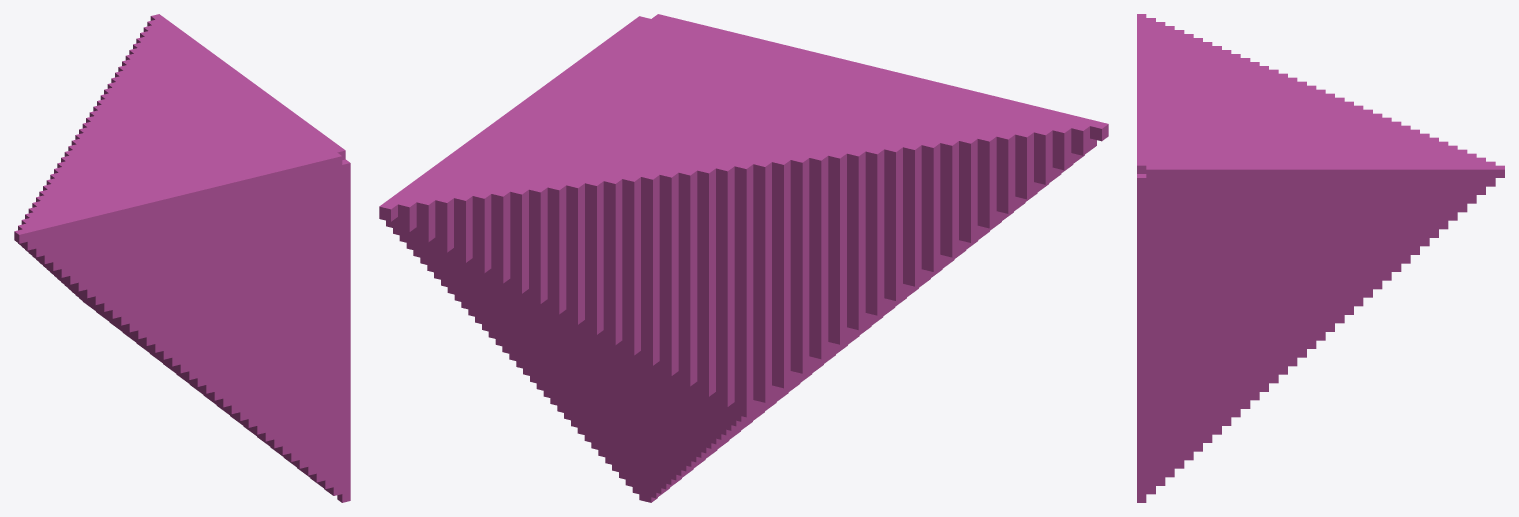
File: crystal-5.obj
3 renders of one model, left to right at view 1: azimuth 30°, elevation 25°; view 2: azimuth 150°, elevation 25°; view 3: azimuth 270°, elevation 25°, orthographic. The views are drawn at different scales.
Size of the model in its own units: 3.9 by 3.9 by 3.9.
1 material, 1 textured.
